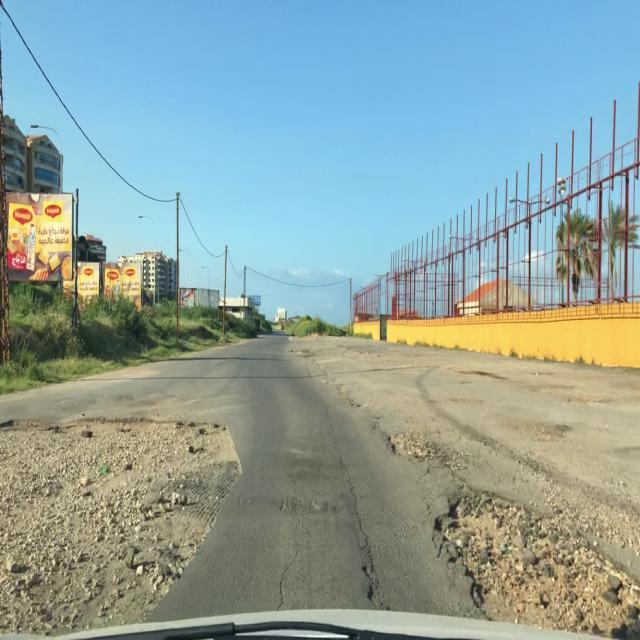Buraco: (0, 414, 243, 635), (429, 482, 640, 638), (381, 430, 449, 462)
